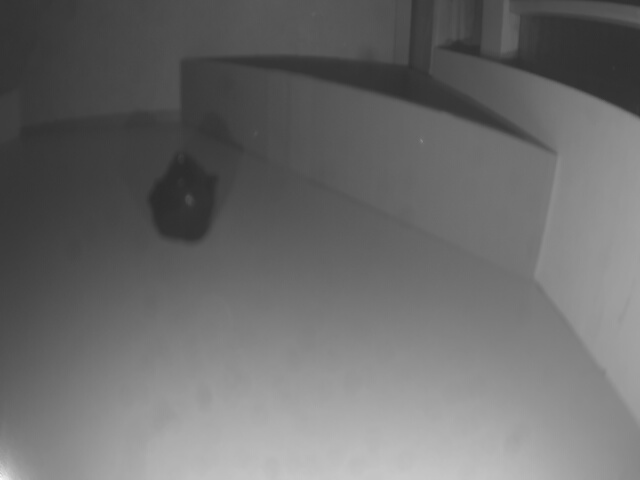Dead: (149, 153, 219, 243)
Point: (179, 60, 531, 280)
